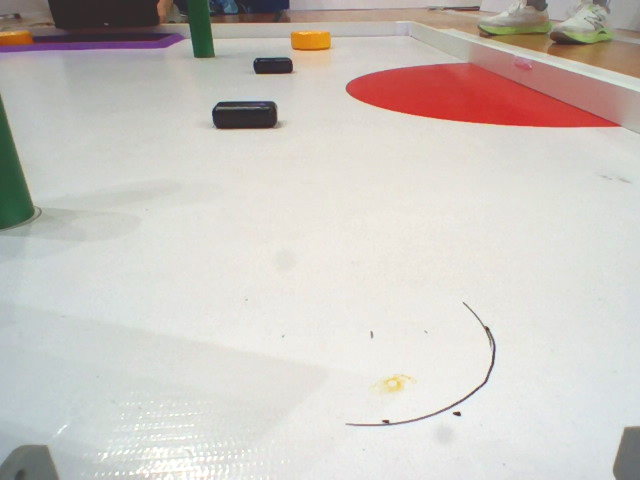black: (208, 97, 285, 130), (250, 54, 298, 76)
kuang: (1, 29, 189, 55)
yellow: (288, 30, 336, 53), (1, 31, 38, 48)
zhuzi: (1, 81, 38, 233), (183, 1, 221, 64)
